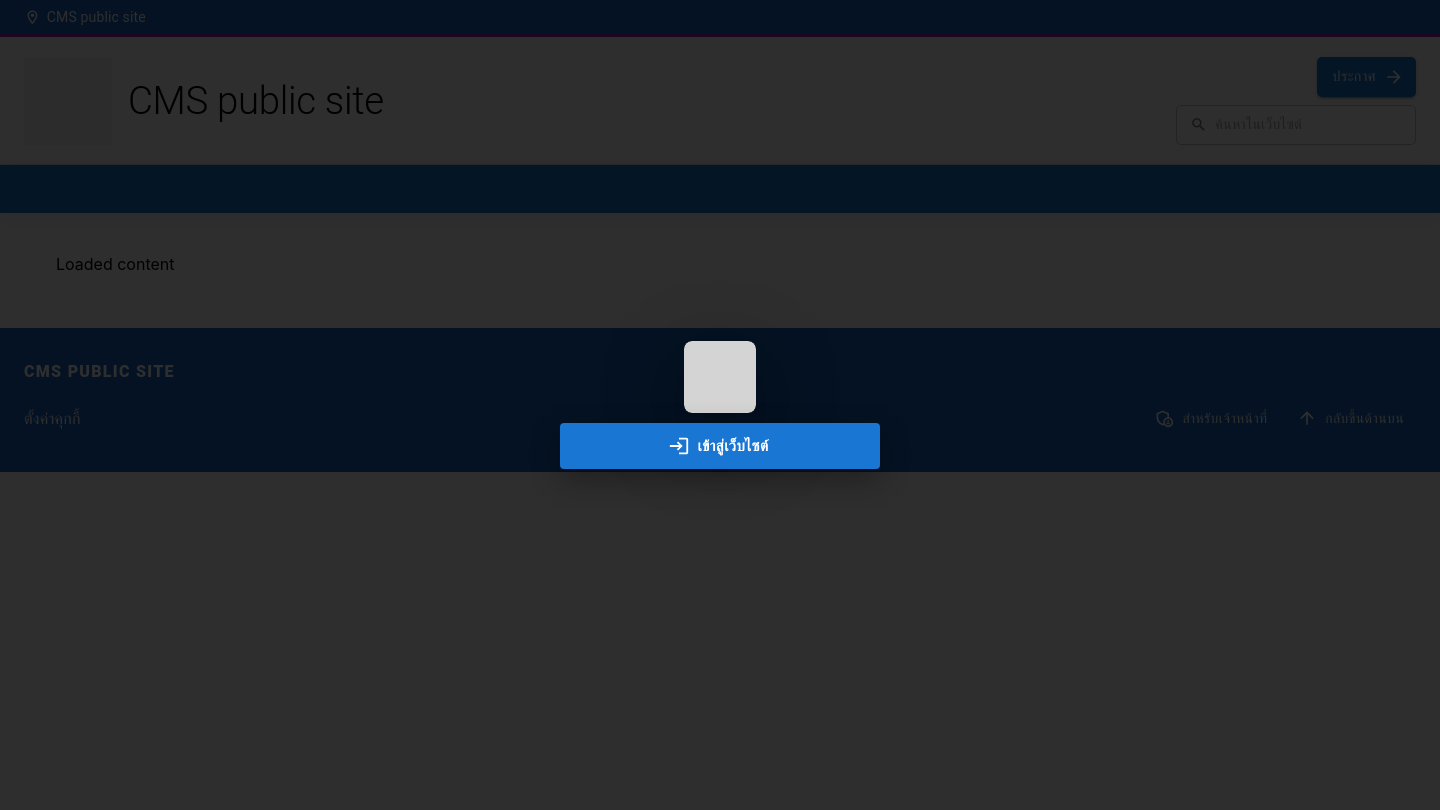
Scenario: public data-driven pages › removes Messenger while Intro Gate is visible and restores it after dismissal
Click the button "เข้าสู่เว็บไซต์" at (720, 446), box [560, 423, 880, 469]
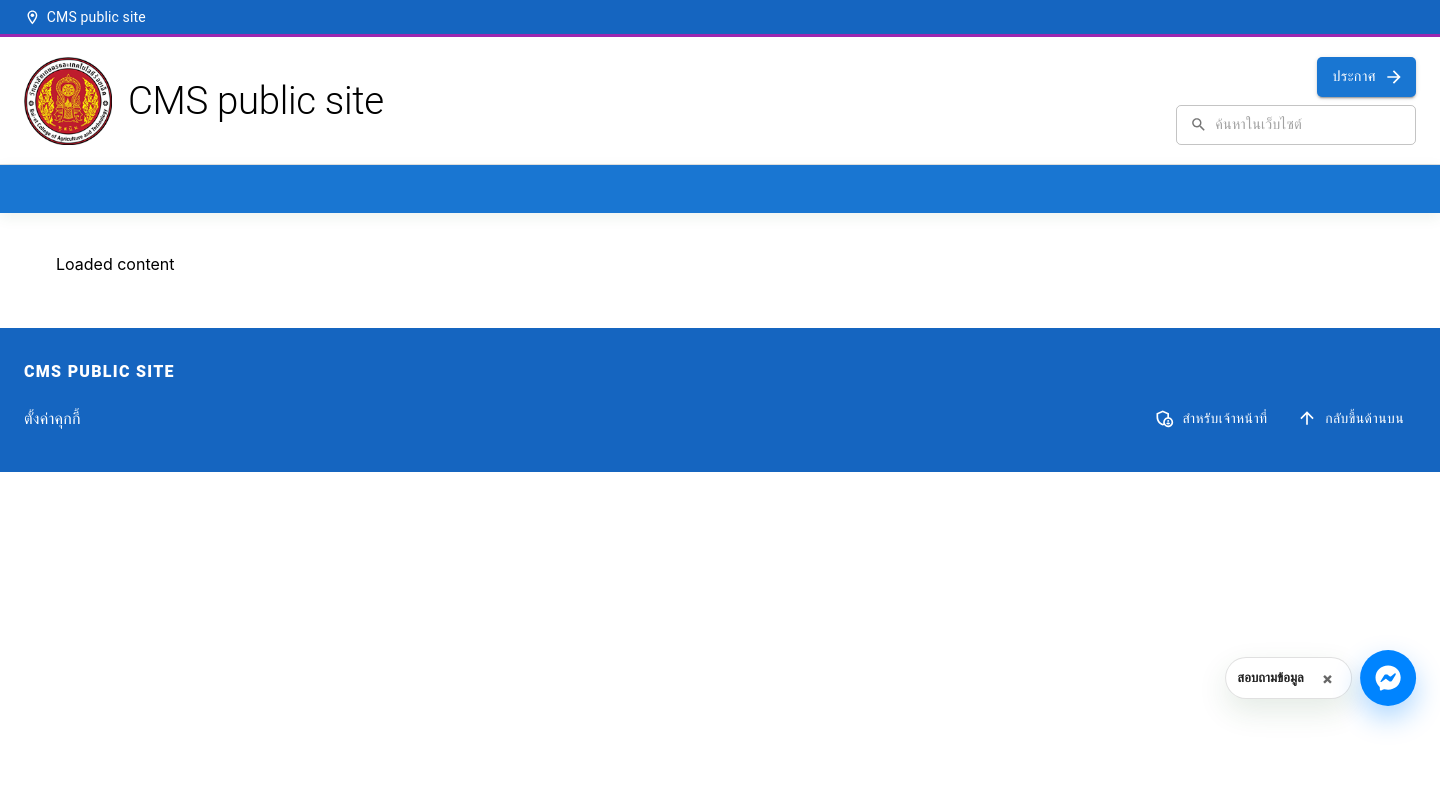
Expected: the dialog "หน้าแนะนำก่อนเข้าสู่เว็บไซต์" is gone
